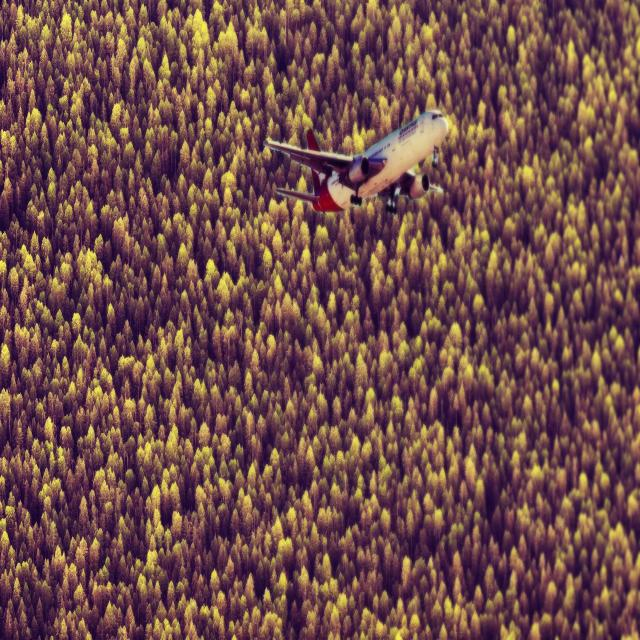airplane: (262, 108, 448, 216)
